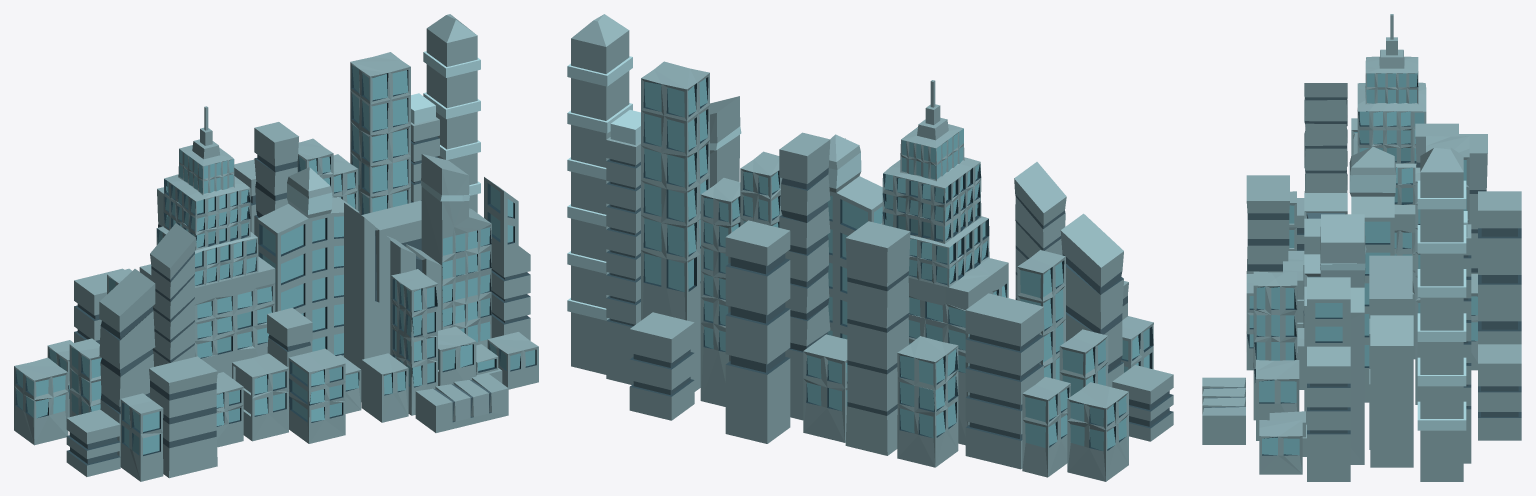
File: City_LowPoly.fbx
3 views of the same model, side by side, from view 1: azimuth 30°, elevation 25°; view 2: azimuth 150°, elevation 25°; view 3: azimuth 270°, elevation 25° (orthographic). The views are drawn at different scales.
Visible parts, largest first — view 1: City_LowPoly2; view 2: City_LowPoly2; view 3: City_LowPoly2.
Part boxes in pixels (x1,y1,x2,y2): City_LowPoly2: [14, 14, 538, 481]; City_LowPoly2: [567, 14, 1173, 481]; City_LowPoly2: [1202, 14, 1521, 481].
Size of the model in its own units: 1479 by 935 by 829.
1 material, 1 textured.
